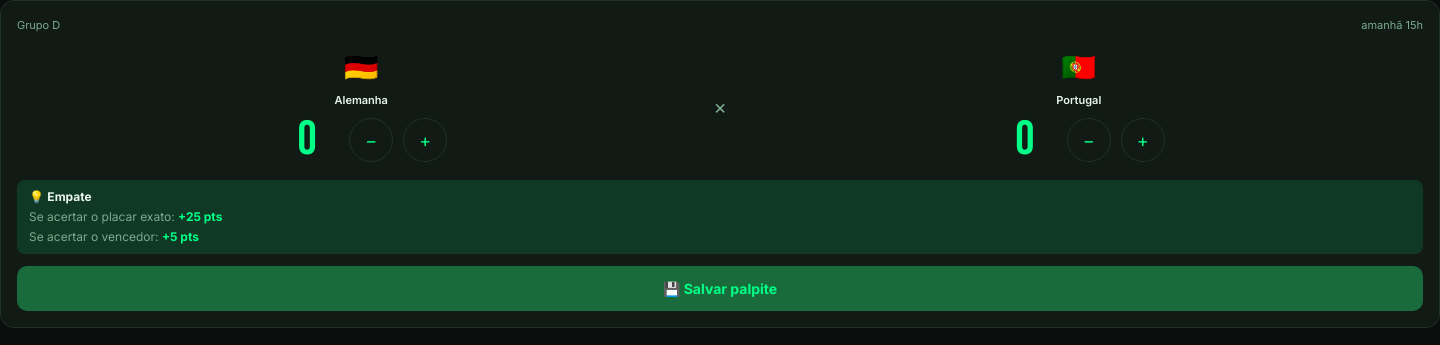
Test case: PlacarInput › sem identificação avisa que ficou só no aparelho
Click the button "+" below "Alemanha": [425, 140] box [403,118,447,162]
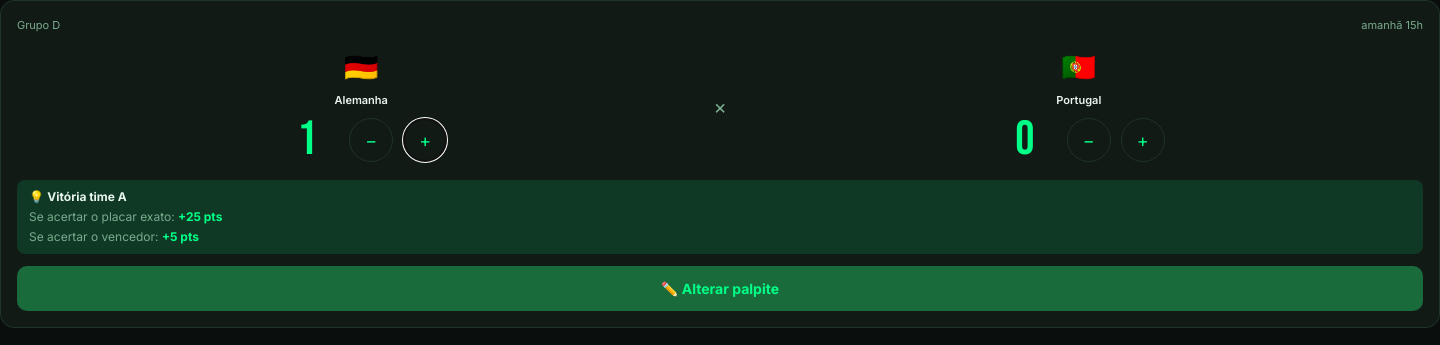
Click the button with aria-label "salvar palpite": [720, 288] box [17,266,1423,311]
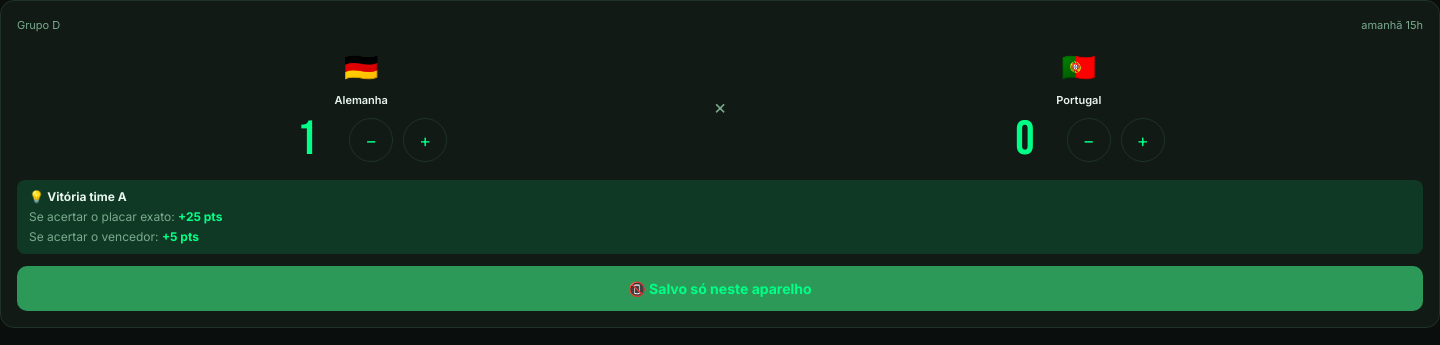
Now the button "📵 Salvo só neste aparelho" is shown, box [17,266,1423,311]
